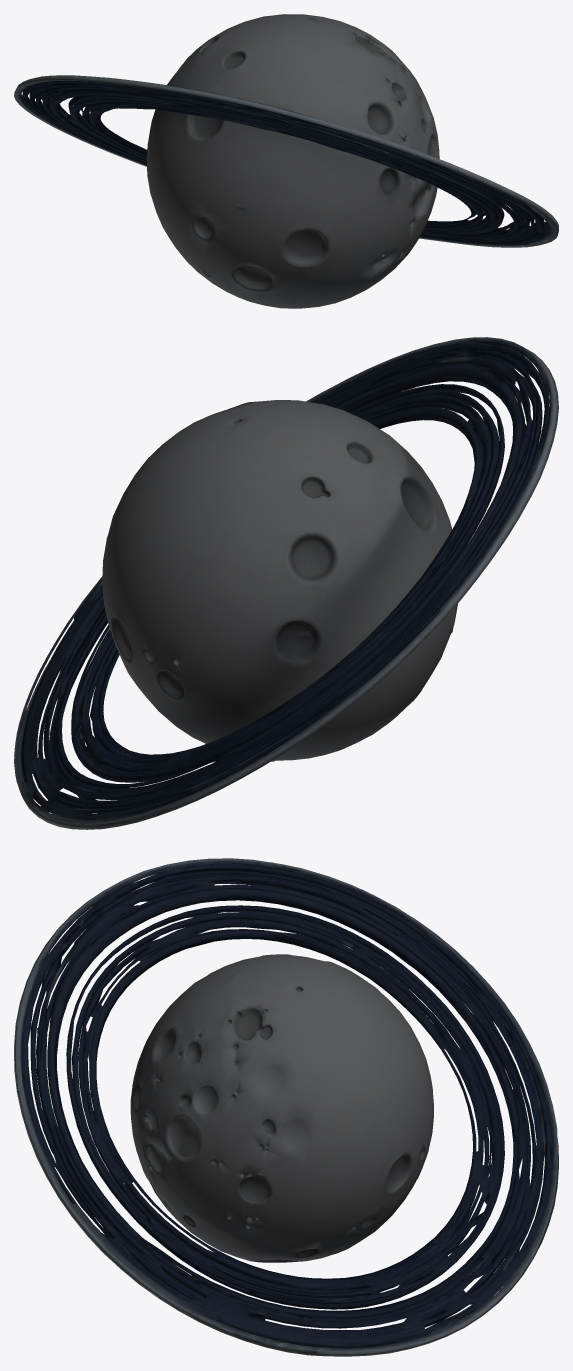
File: planet.glb
The picture shows the model from 3 angles, top to bottom: view 1: azimuth 30°, elevation 25°; view 2: azimuth 150°, elevation 25°; view 3: azimuth 270°, elevation 25°; orthographic projection. The views are drawn at different scales.
Parts seen in each view (by area): view 1: tripo_node_1757f4e0-44d0-4fbb-8577-d87d87a41a34; view 2: tripo_node_1757f4e0-44d0-4fbb-8577-d87d87a41a34; view 3: tripo_node_1757f4e0-44d0-4fbb-8577-d87d87a41a34.
Part boxes in pixels (bbox=[...]): tripo_node_1757f4e0-44d0-4fbb-8577-d87d87a41a34: bbox=[14, 14, 558, 308]; tripo_node_1757f4e0-44d0-4fbb-8577-d87d87a41a34: bbox=[14, 337, 558, 829]; tripo_node_1757f4e0-44d0-4fbb-8577-d87d87a41a34: bbox=[14, 858, 558, 1356].
Bounding box in the file's own units: 0.9292 × 0.6519 × 0.9995.
1 material, 1 textured.
